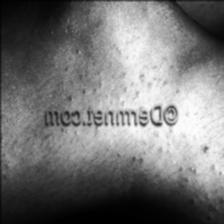Non-Cancerous Skin Condition: (118, 62, 156, 106), (202, 143, 208, 155), (221, 143, 224, 159), (210, 162, 216, 170)
